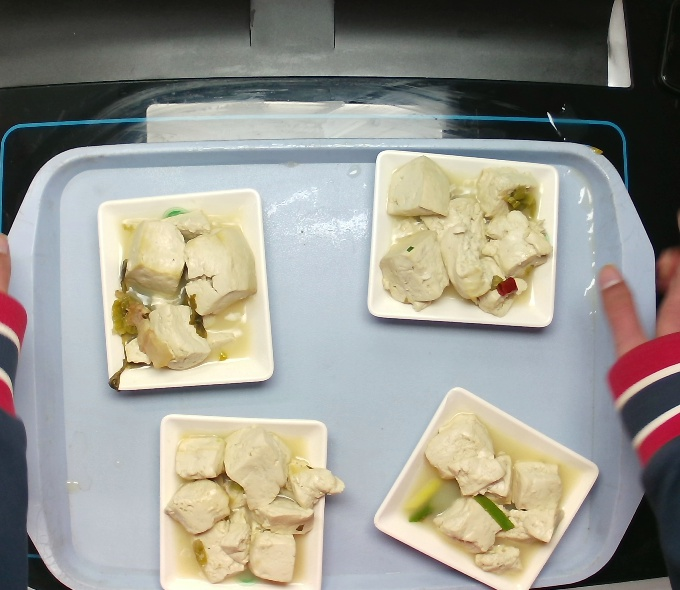wcq-LuDouFu: (375, 155, 555, 323), (164, 422, 344, 590), (101, 204, 263, 388), (406, 414, 565, 590)
